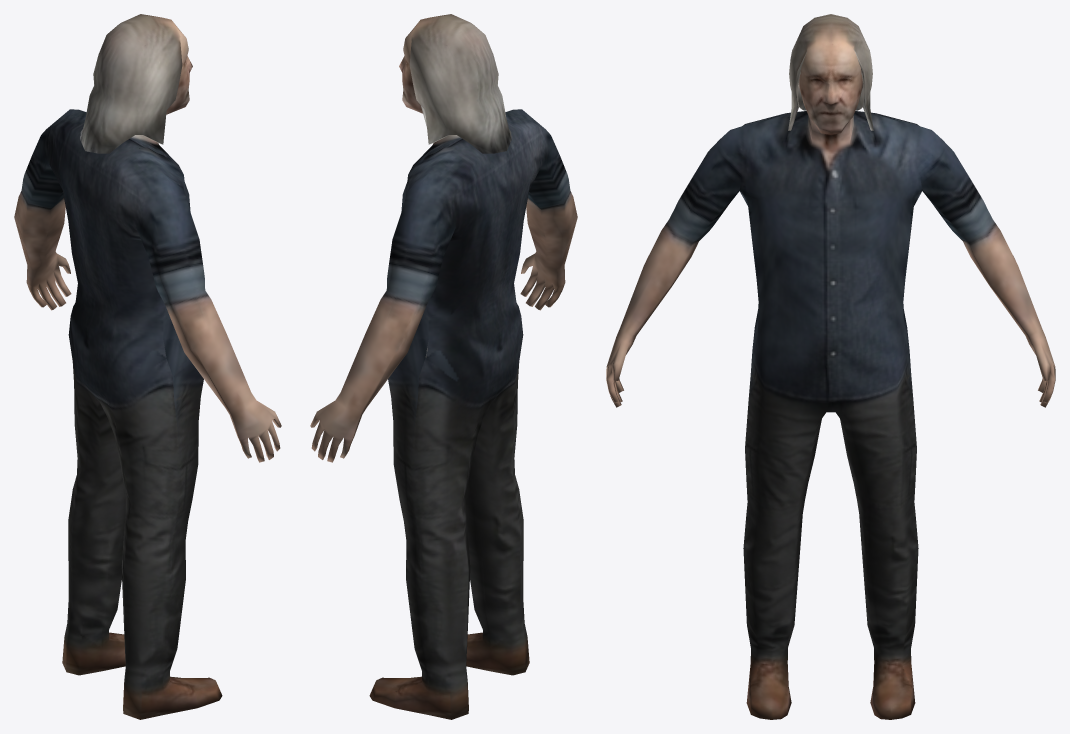
File: Character_Male_51.fbx
3 views of the same model, side by side, from view 1: azimuth 30°, elevation 25°; view 2: azimuth 150°, elevation 25°; view 3: azimuth 270°, elevation 25° (orthographic). The views are drawn at different scales.
Parts seen in each view (by area): view 1: Character_Male_51; view 2: Character_Male_51; view 3: Character_Male_51.
Part boxes in pixels (x1,y1,x2,y2): Character_Male_51: [14, 14, 281, 719]; Character_Male_51: [310, 14, 577, 719]; Character_Male_51: [606, 14, 1055, 719].
Bounding box in the file's own units: 0.3064 × 1.74 × 1.04.
